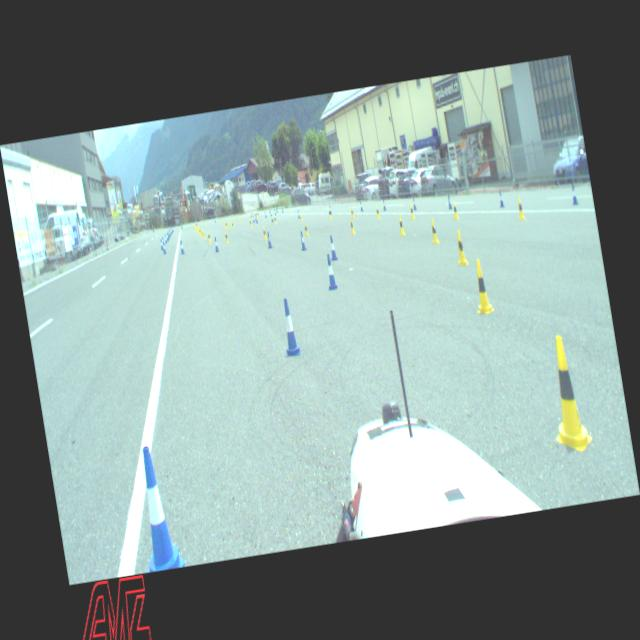blue_cone: (127, 443, 186, 572), (278, 298, 301, 356), (323, 253, 338, 290), (328, 234, 338, 260), (570, 183, 578, 204), (300, 231, 306, 251), (213, 236, 220, 252), (266, 232, 273, 248), (498, 190, 504, 207), (180, 240, 186, 254), (447, 196, 452, 210), (162, 242, 167, 254), (412, 198, 417, 210), (382, 200, 387, 211), (328, 205, 332, 215), (160, 240, 164, 250), (162, 237, 165, 247), (360, 202, 363, 212), (297, 209, 300, 219), (165, 234, 168, 243), (271, 214, 274, 222)
yellow_cone: (540, 332, 594, 456), (470, 258, 494, 316), (453, 230, 469, 266), (430, 218, 440, 244), (516, 196, 526, 219), (396, 214, 406, 236), (348, 217, 356, 235), (452, 200, 459, 220), (408, 203, 414, 220), (303, 222, 309, 237), (375, 205, 381, 219), (206, 232, 212, 244), (262, 227, 267, 240), (350, 206, 355, 218), (225, 230, 229, 243), (328, 208, 332, 219), (299, 212, 303, 222), (274, 216, 277, 225), (249, 218, 252, 226), (225, 222, 228, 230), (232, 221, 234, 230), (223, 222, 226, 228), (230, 218, 232, 226)
